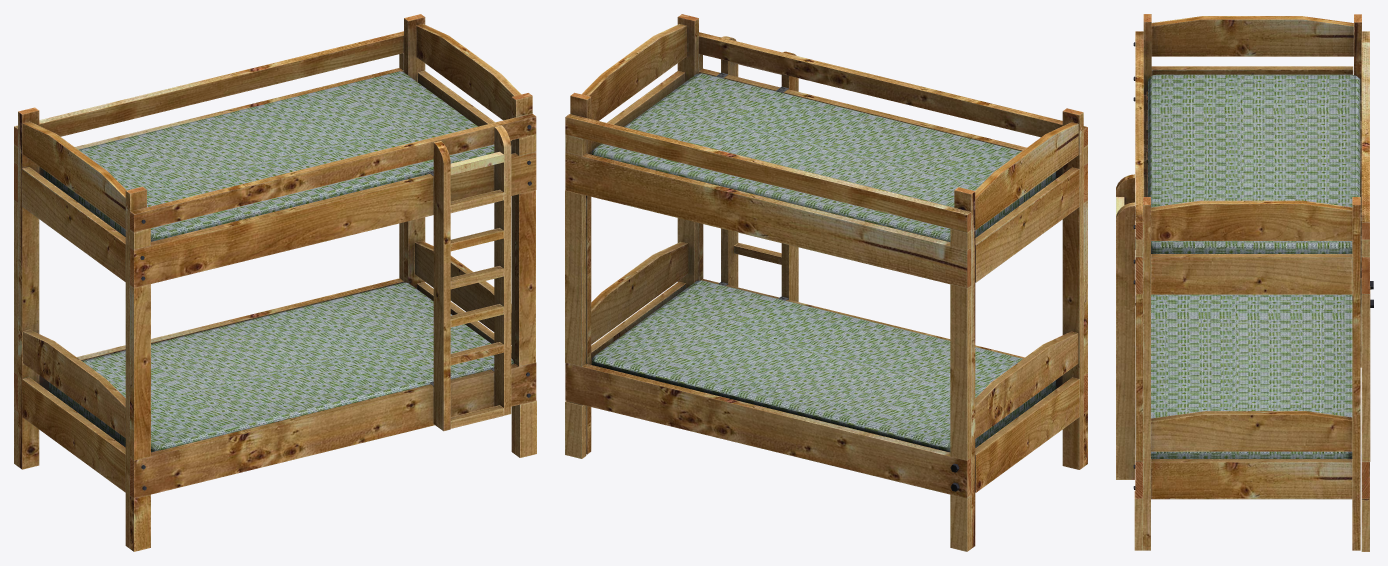
File: bed-queen.glb
3 views of the same model, side by side, from view 1: azimuth 30°, elevation 25°; view 2: azimuth 150°, elevation 25°; view 3: azimuth 270°, elevation 25° (orthographic). The views are drawn at different scales.
Parts seen in each view (by area): view 1: Object_2; view 2: Object_2; view 3: Object_2.
Boxes of the visible parts, bbox=[...] form: Object_2: bbox=[14, 14, 536, 551]; Object_2: bbox=[565, 14, 1087, 551]; Object_2: bbox=[1116, 14, 1373, 551].
Bounding box in the file's own units: 1.05 × 0.8908 × 0.6.
Materials: 4 (4 with a texture image).
